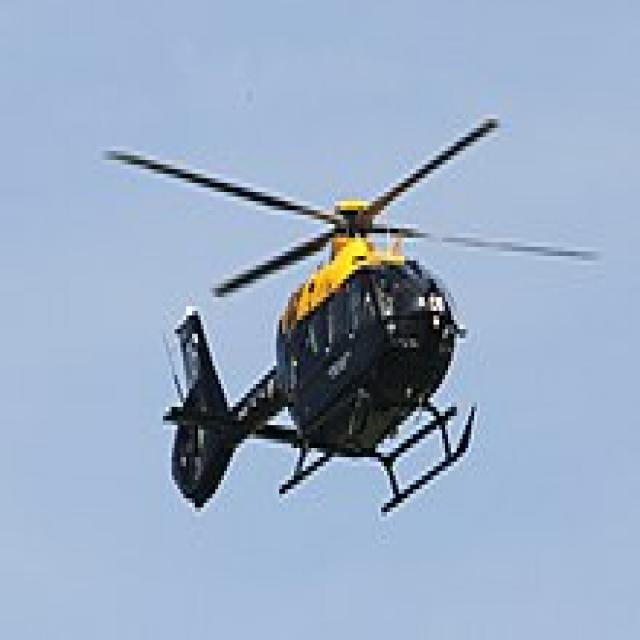helicopter: (109, 120, 606, 522)
